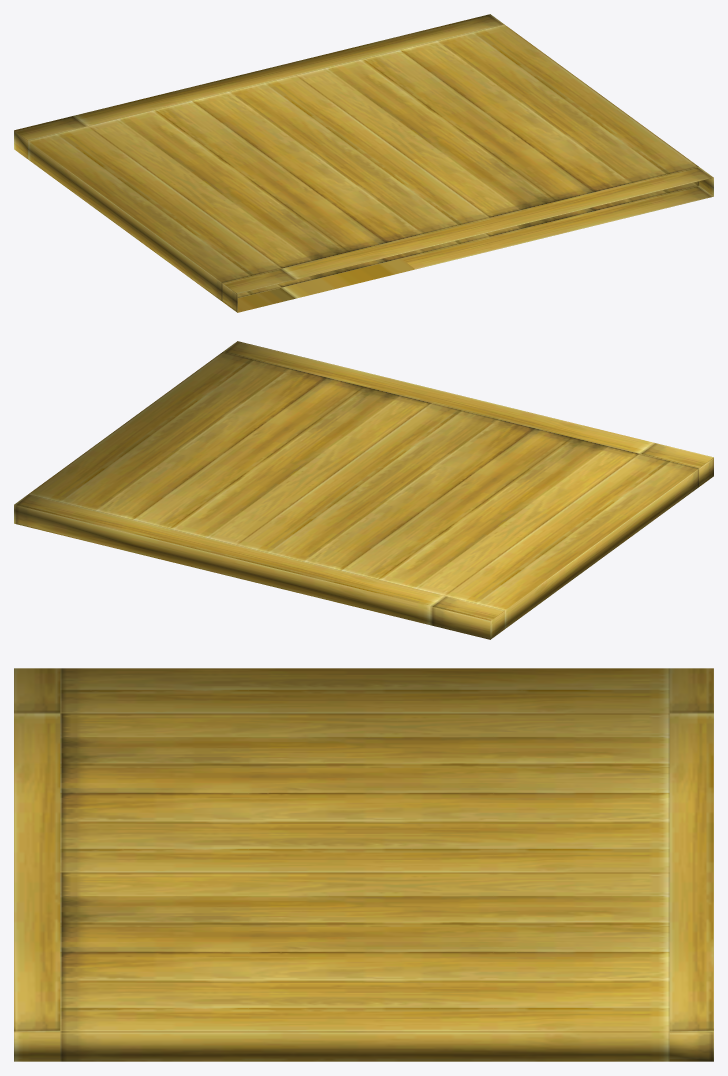
File: HTOWN01_MILLPLATFORM03.fbx
3 renders of one model, top to bottom at view 1: azimuth 30°, elevation 25°; view 2: azimuth 150°, elevation 25°; view 3: azimuth 270°, elevation 25°, orthographic. The views are drawn at different scales.
Parts seen in each view (by area): view 1: HTOWN01_MILLPLATFORM03; view 2: HTOWN01_MILLPLATFORM03; view 3: HTOWN01_MILLPLATFORM03.
Boxes of the visible parts, x1=… form: HTOWN01_MILLPLATFORM03: x1=14, y1=14, x2=713, y2=312; HTOWN01_MILLPLATFORM03: x1=14, y1=341, x2=713, y2=639; HTOWN01_MILLPLATFORM03: x1=14, y1=668, x2=713, y2=1061.
Bounding box in the file's own units: 49950 × 1897 × 40596.
Materials: 1 (1 with a texture image).
